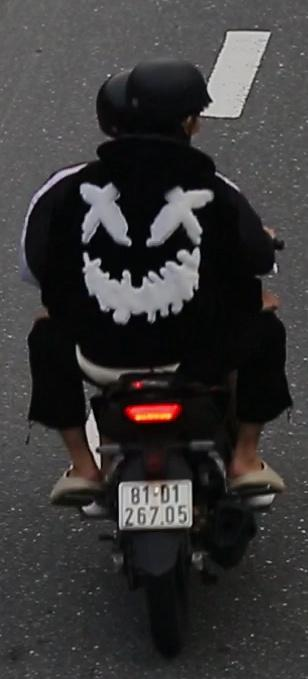LP: (114, 476, 196, 536)
helmet: (134, 48, 210, 153), (93, 51, 138, 144)
